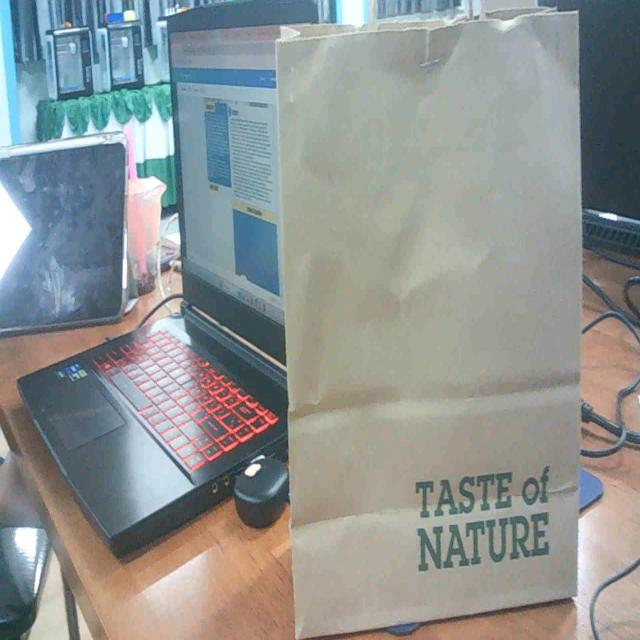bag: (267, 30, 605, 640)
